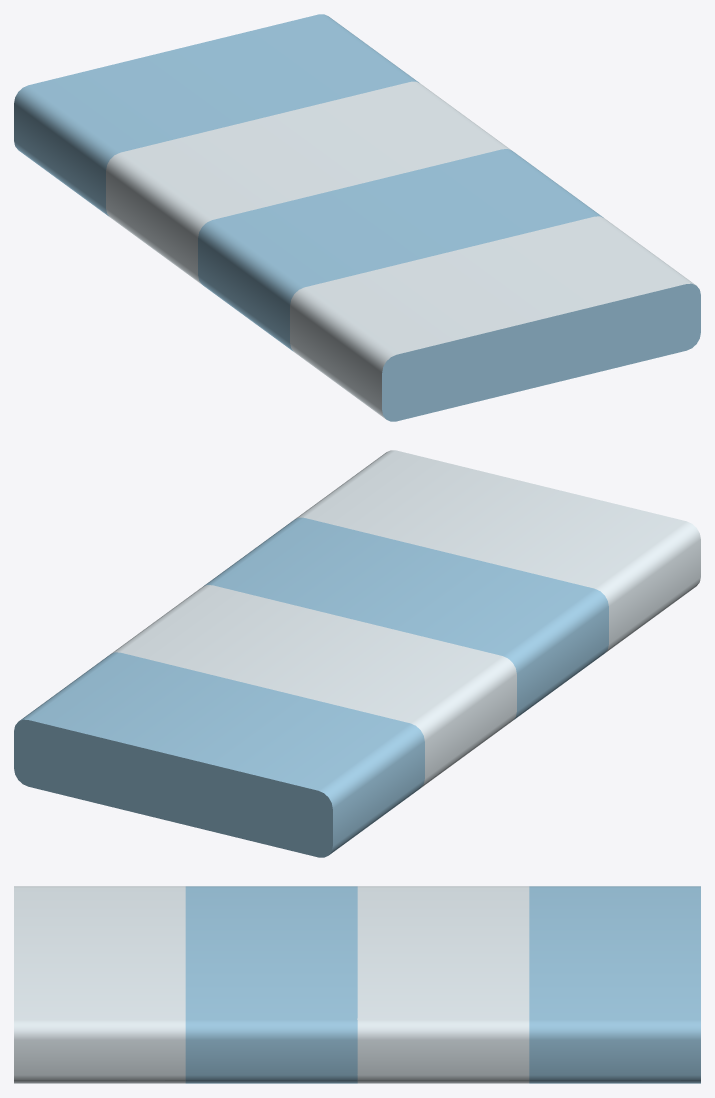
File: Platfrom.fbx
3 renders of one model, top to bottom at view 1: azimuth 30°, elevation 25°; view 2: azimuth 150°, elevation 25°; view 3: azimuth 270°, elevation 25°, orthographic. The views are drawn at different scales.
Visible parts, largest first — view 1: Cube; view 2: Cube; view 3: Cube.
Part boxes in pixels (x1,y1,x2,y2): Cube: (14,14,700,421); Cube: (14,450,700,857); Cube: (14,886,700,1083).
Size of the model in its own units: 500 by 100 by 1000.
